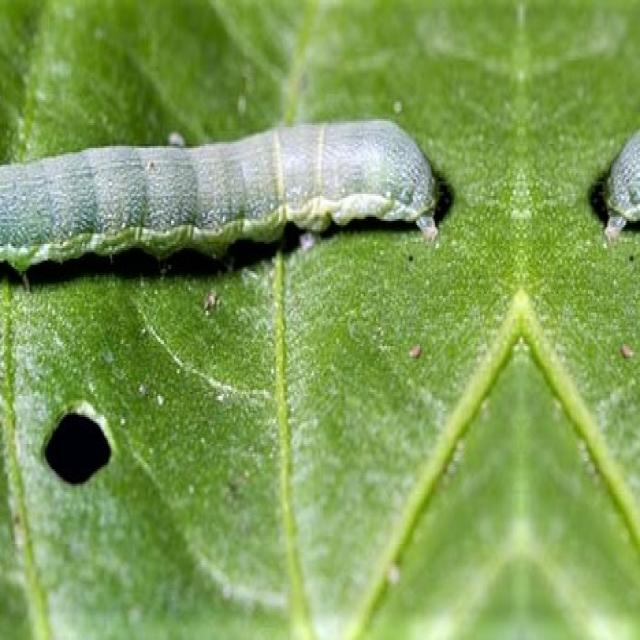Armyworm: (1, 93, 440, 305)
Armyworm_damage: (17, 375, 145, 508)
